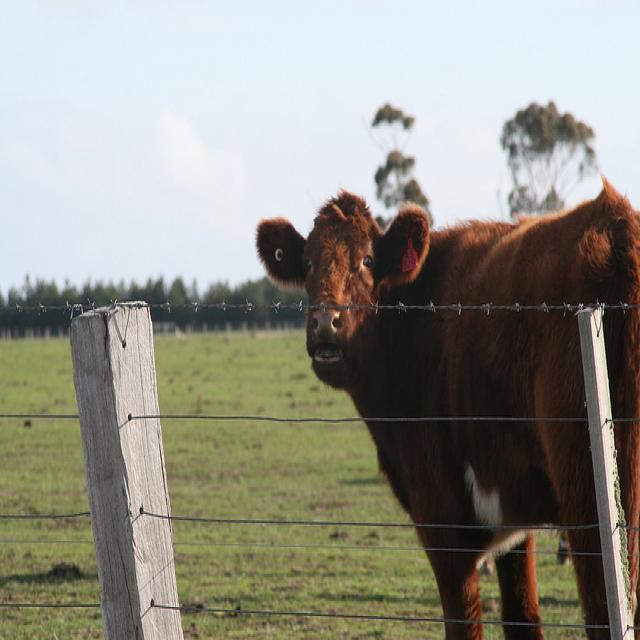cow: (253, 180, 639, 631)
